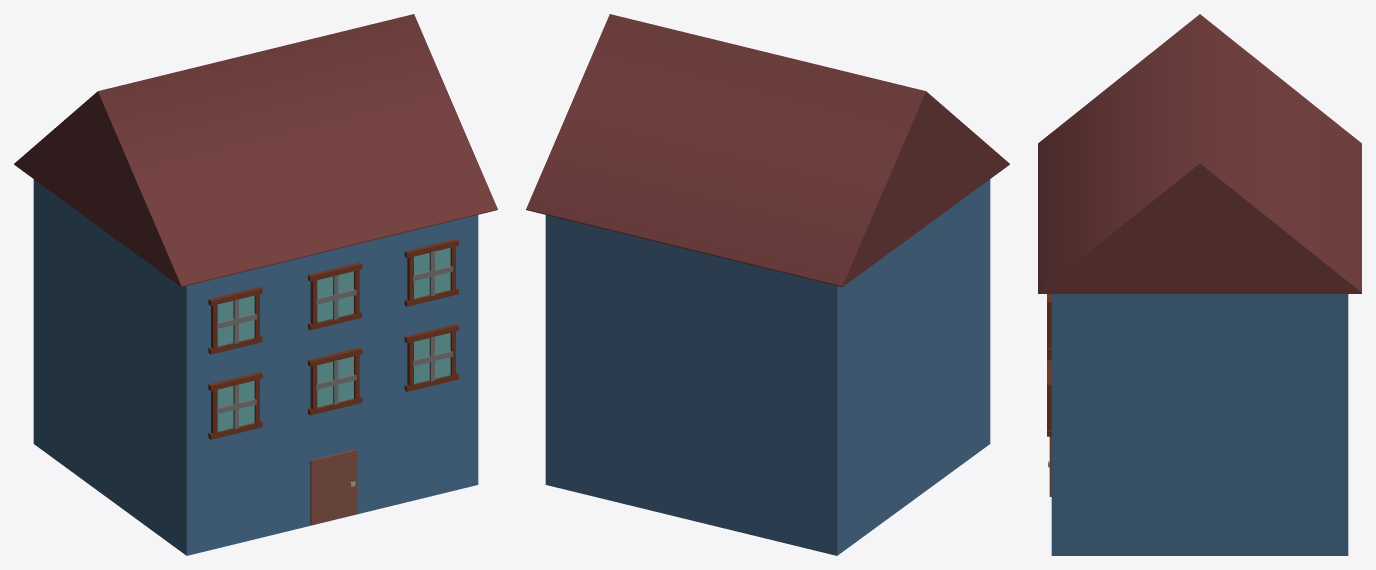
File: Huis_Plein.fbx
The picture shows the model from 3 angles, left to right: view 1: azimuth 30°, elevation 25°; view 2: azimuth 150°, elevation 25°; view 3: azimuth 270°, elevation 25°; orthographic projection. The views are drawn at different scales.
Visible parts, largest first — view 1: House; view 2: House; view 3: House.
Boxes of the visible parts, x1=… form: House: x1=14, y1=14, x2=497, y2=555; House: x1=526, y1=14, x2=1009, y2=555; House: x1=1038, y1=14, x2=1361, y2=555.
Bounding box in the file's own units: 3.68 × 4.57 × 3.37.
